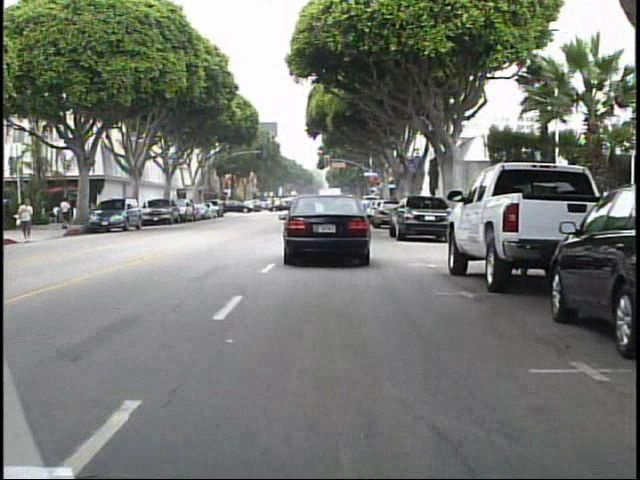person: (20, 195, 42, 246), (60, 195, 77, 231), (279, 193, 280, 217)
